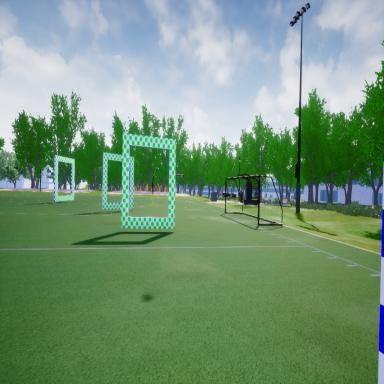gate: (119, 128, 177, 237), (102, 147, 134, 215), (53, 151, 78, 207)
